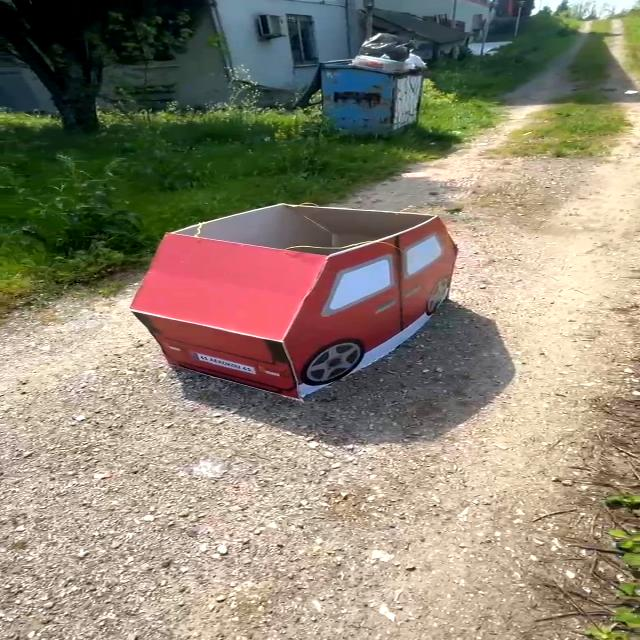red_car: (101, 182, 493, 409)
